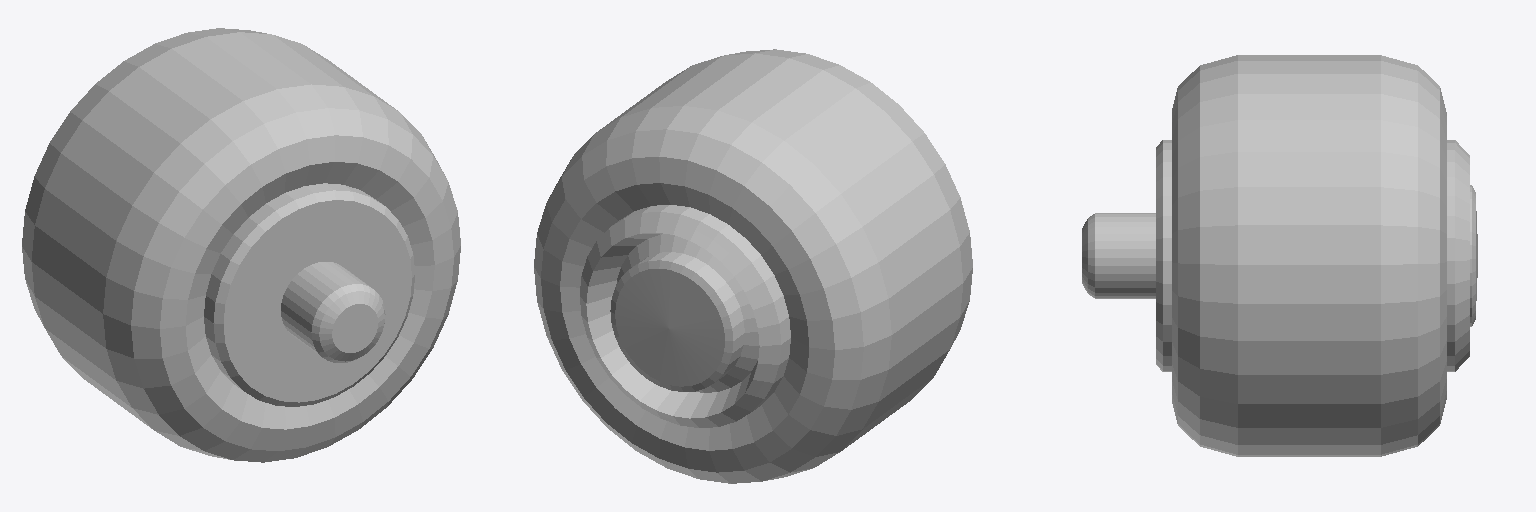
Rendered from mrsbaxter_wheel2.obj.
3 renders of one model, left to right at view 1: azimuth 30°, elevation 25°; view 2: azimuth 150°, elevation 25°; view 3: azimuth 270°, elevation 25°, orthographic.
Parts seen in each view (by area): view 1: wheels_low.003; view 2: wheels_low.003; view 3: wheels_low.003.
Boxes of the visible parts, <box> form: wheels_low.003: <box>22,28,460,462</box>; wheels_low.003: <box>534,49,972,483</box>; wheels_low.003: <box>1082,55,1477,456</box>.
Bounding box in the file's own units: 1.13 × 1.13 × 1.12.